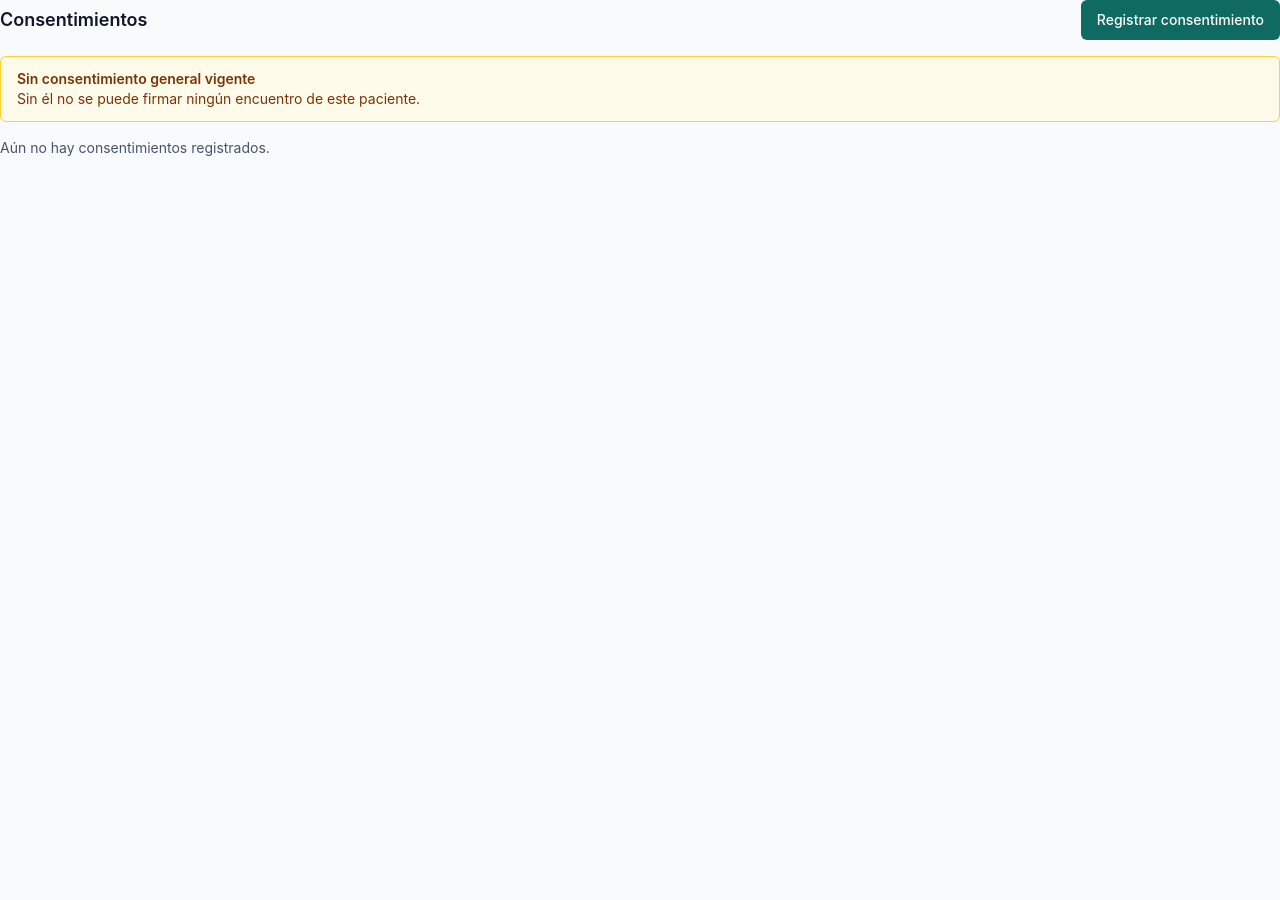
Test: ConsentsPanel: captura › muestra la plantilla vigente TAL CUAL (incluida la leyenda de ejemplo) y firma en pantalla
Click the button "Registrar consentimiento".
click(1180, 20)  # box [1081,0,1279,40]
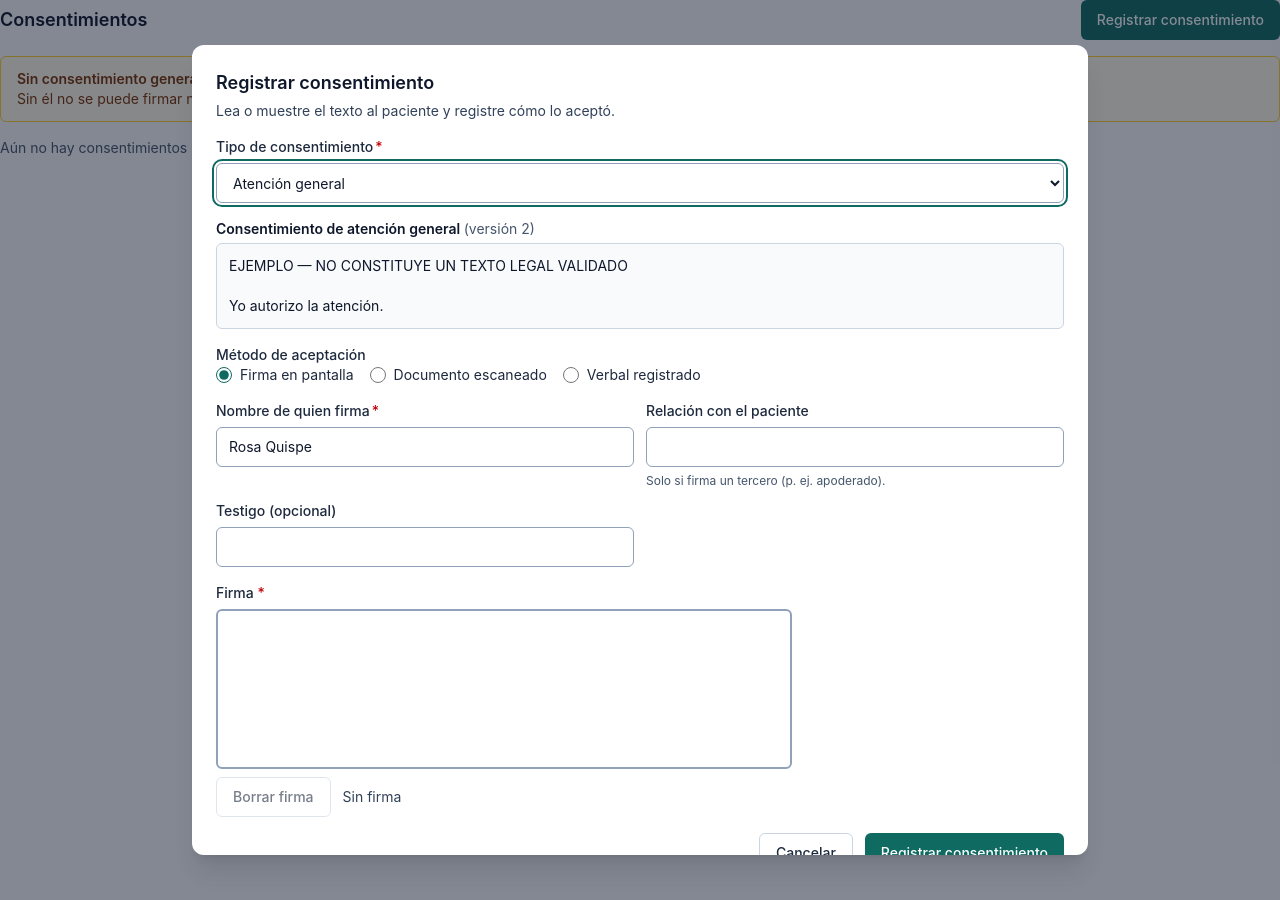
Now the text "EJEMPLO — NO CONSTITUYE UN TEXTO LEGAL VALIDADO" is shown, box [229,257,628,314]
Now the text "(versión 2)" is shown, box [464,220,535,237]
Now the field labelled "Nombre de quien firma*" holds "Rosa Quispe", box [216,427,634,467]
Press the mouse on the picture named "Área de firma" at x=504, y=689, box [216,609,792,769]
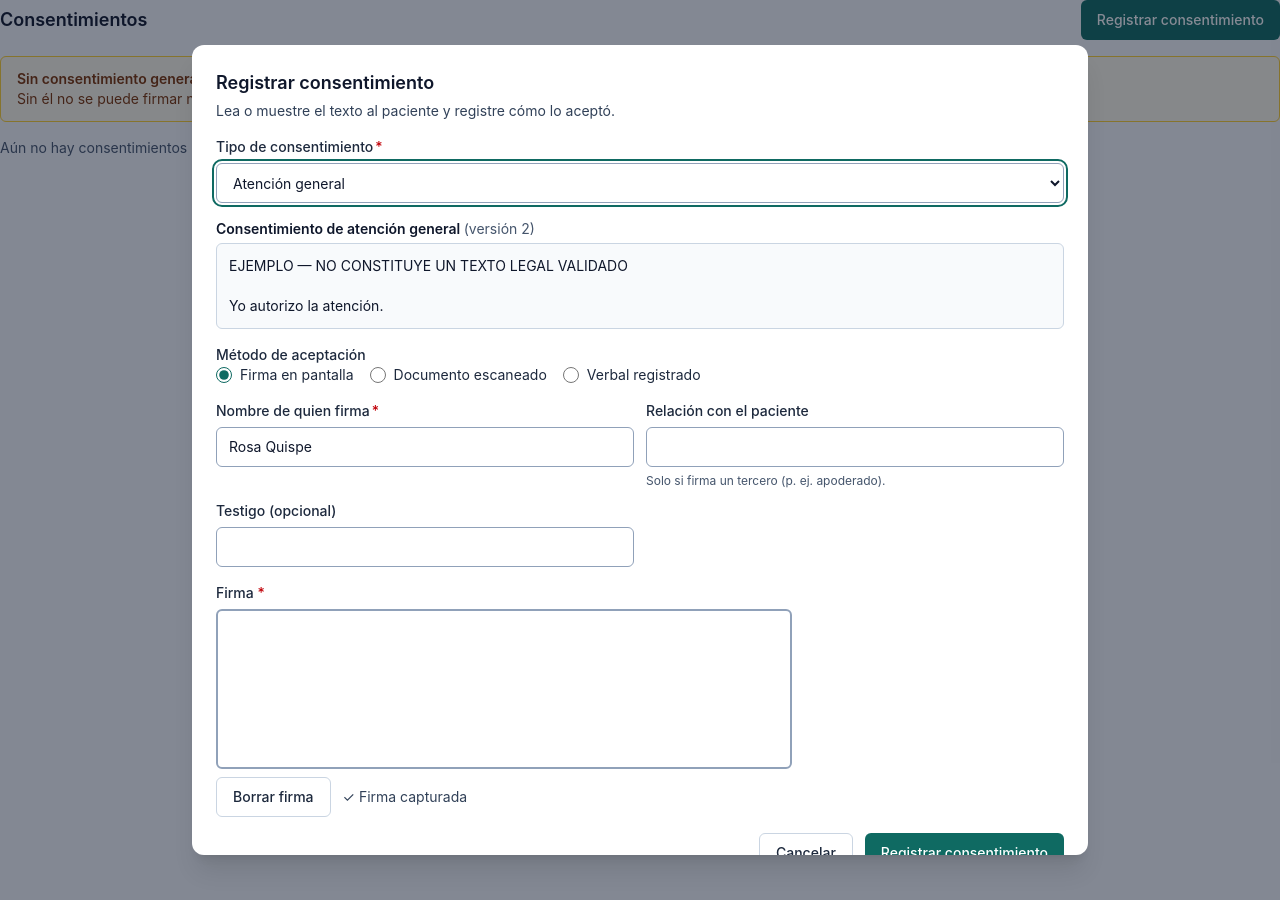
Click the button "Registrar consentimiento".
click(964, 853)  # box [865,833,1064,873]
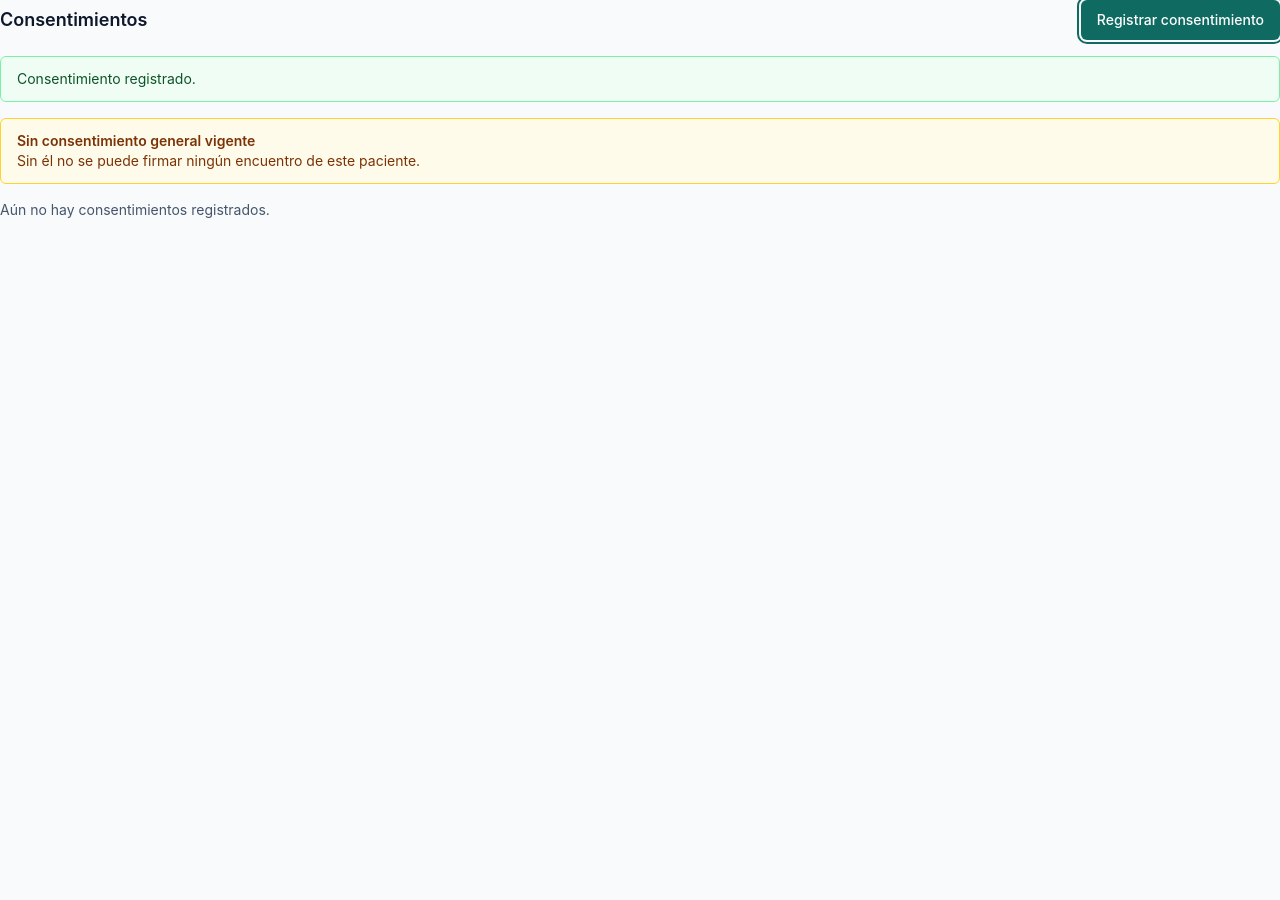
Now the text "Consentimiento registrado." is shown, box [17,70,196,87]
